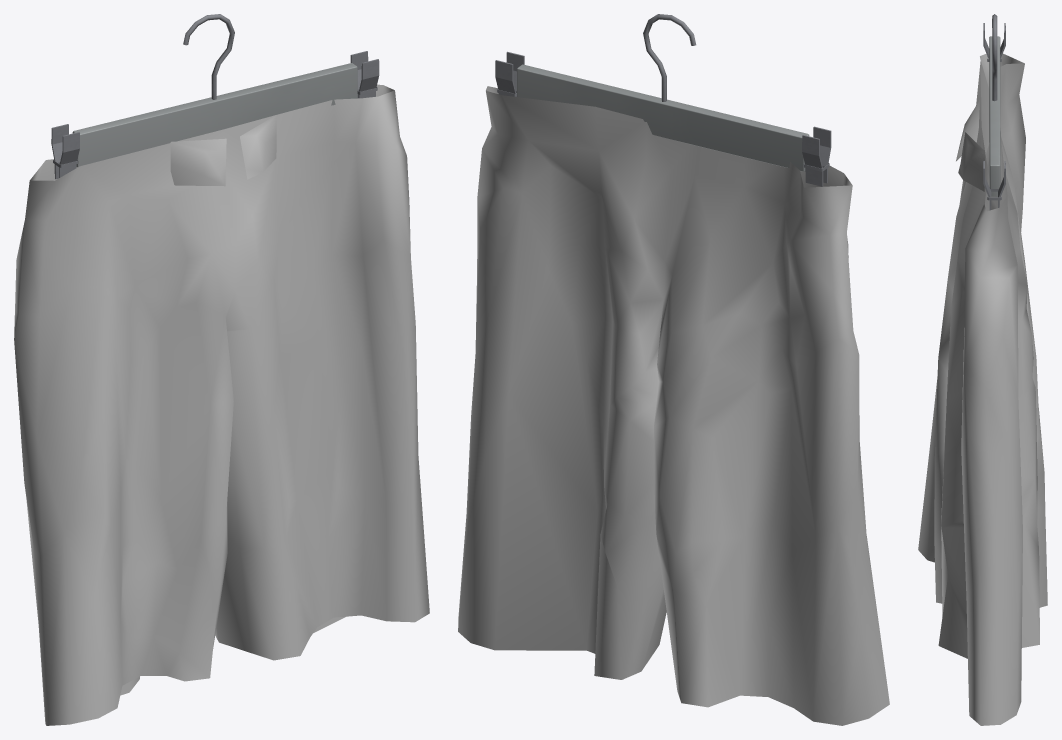
The model's file is boardshorts.FBX.
The picture shows the model from 3 angles, left to right: view 1: azimuth 30°, elevation 25°; view 2: azimuth 150°, elevation 25°; view 3: azimuth 270°, elevation 25°; orthographic projection. The views are drawn at different scales.
Visible parts, largest first — view 1: boardshorts_LOD0, _Hanger-2_LOD0; view 2: boardshorts_LOD0, _Hanger-2_LOD0; view 3: boardshorts_LOD0, _Hanger-2_LOD0.
Part boxes in pixels (box(x1,y1,x2,y2)): boardshorts_LOD0: box(14, 84, 429, 725); _Hanger-2_LOD0: box(51, 14, 379, 179); boardshorts_LOD0: box(458, 86, 889, 725); _Hanger-2_LOD0: box(495, 14, 831, 186); boardshorts_LOD0: box(918, 53, 1047, 725); _Hanger-2_LOD0: box(983, 14, 1005, 210).
Size of what is drawn, in the model's own units: 40.62 by 11.95 by 63.27.
